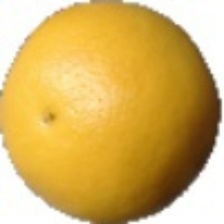grapes: (20, 57, 181, 201)
